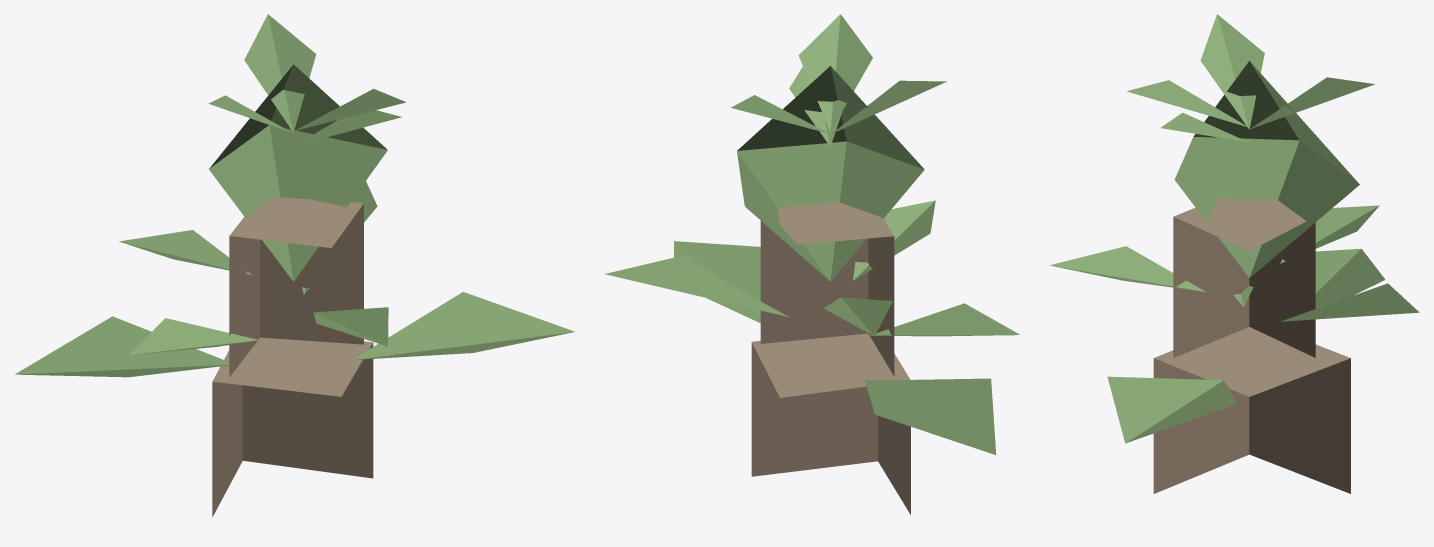
The model's file is hua.lan@seedling__bloom.glb.
3 renders of one model, left to right at view 1: azimuth 30°, elevation 25°; view 2: azimuth 150°, elevation 25°; view 3: azimuth 270°, elevation 25°, orthographic.
Visible parts, largest first — view 1: hua.lan@seedling__bloom; view 2: hua.lan@seedling__bloom; view 3: hua.lan@seedling__bloom.
Boxes of the visible parts, box(x1,y1,x2,y2) form: hua.lan@seedling__bloom: box(15, 14, 575, 517); hua.lan@seedling__bloom: box(604, 14, 1019, 514); hua.lan@seedling__bloom: box(1049, 14, 1419, 493).
Bounding box in the file's own units: 0.0845 × 0.079 × 0.0613.
